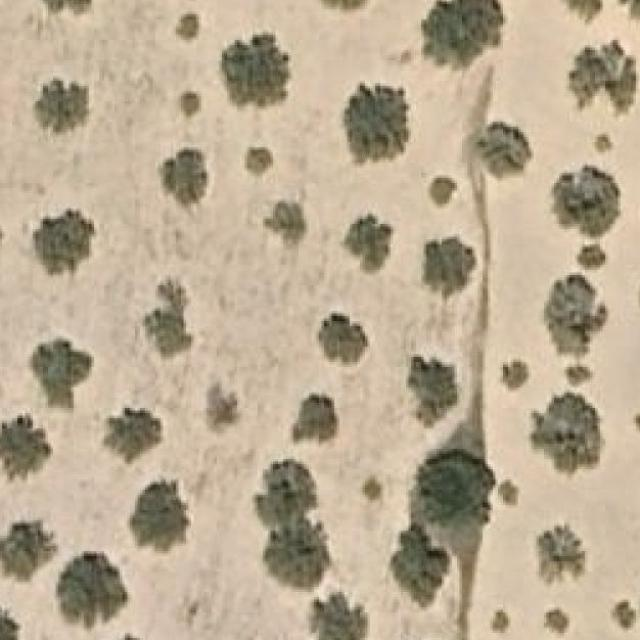Tree: (529, 390, 605, 480), (564, 38, 639, 120), (419, 452, 496, 528), (220, 33, 291, 109), (547, 163, 622, 234), (58, 554, 128, 629), (544, 275, 608, 355), (344, 86, 406, 168), (424, 0, 506, 60), (258, 520, 332, 585), (130, 478, 191, 554), (143, 278, 197, 363), (394, 526, 449, 600), (35, 209, 94, 275), (102, 408, 167, 467), (409, 357, 463, 428), (256, 459, 317, 520), (0, 520, 58, 584), (0, 413, 53, 483), (537, 523, 591, 588), (33, 341, 89, 403), (476, 122, 532, 181), (422, 232, 476, 293), (36, 79, 92, 135), (158, 149, 210, 209), (344, 214, 394, 275), (317, 311, 371, 367), (263, 190, 309, 250), (290, 392, 340, 447), (204, 372, 242, 437), (314, 592, 365, 640), (559, 0, 605, 25), (41, 0, 97, 19), (610, 595, 639, 631), (498, 360, 528, 393), (244, 145, 273, 179), (428, 176, 457, 209), (176, 12, 201, 43), (0, 604, 20, 640), (179, 91, 202, 122), (544, 610, 569, 636), (567, 362, 593, 387), (577, 247, 605, 268), (491, 610, 511, 636), (593, 135, 613, 155), (362, 479, 380, 500), (94, 635, 169, 640), (631, 413, 640, 434)
